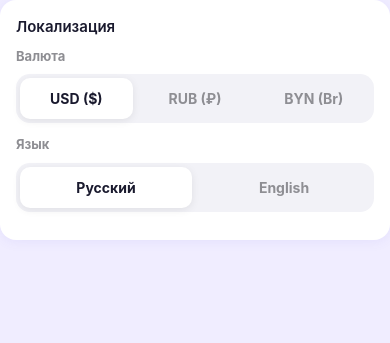
Test: LocalizationBlock › при ошибке сохраняет draft и показывает сообщение
Click the radio button labelled "RUB (₽)".
click(195, 98)  # box [139,78,251,119]
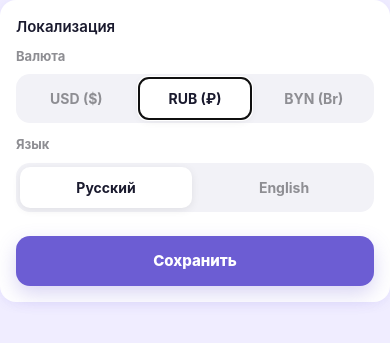
Click the button "Сохранить".
click(195, 261)  # box [16,236,374,286]
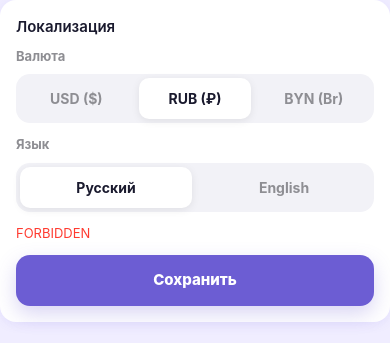
Now the radio button labelled "RUB (₽)" is checked, box [139,78,251,119]
Now the button "Сохранить" is shown, box [16,255,374,306]
Now the message reads "FORBIDDEN", box [16,224,90,240]
